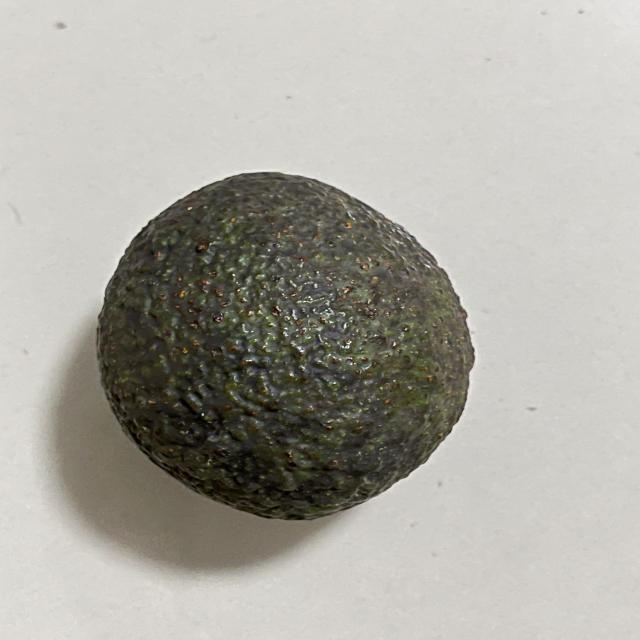avocado: (78, 154, 495, 534)
